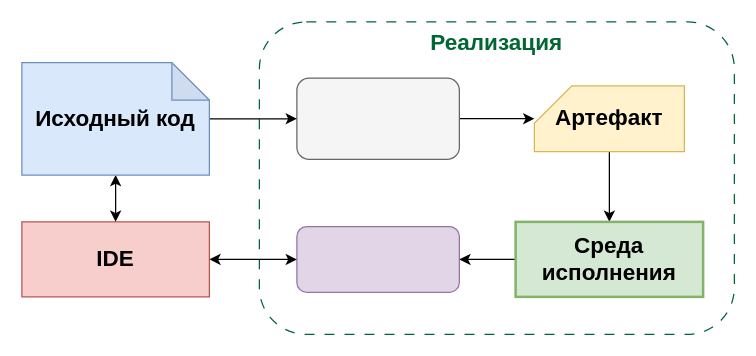
The diagram is 756 pixels wide and 356 high, and some of its shapes have lost their labels. The centre of each missing label's shape, as x and y in pixels:
"Отладчик" goes at (377,258).
"Транслятор" goes at (377,118).
